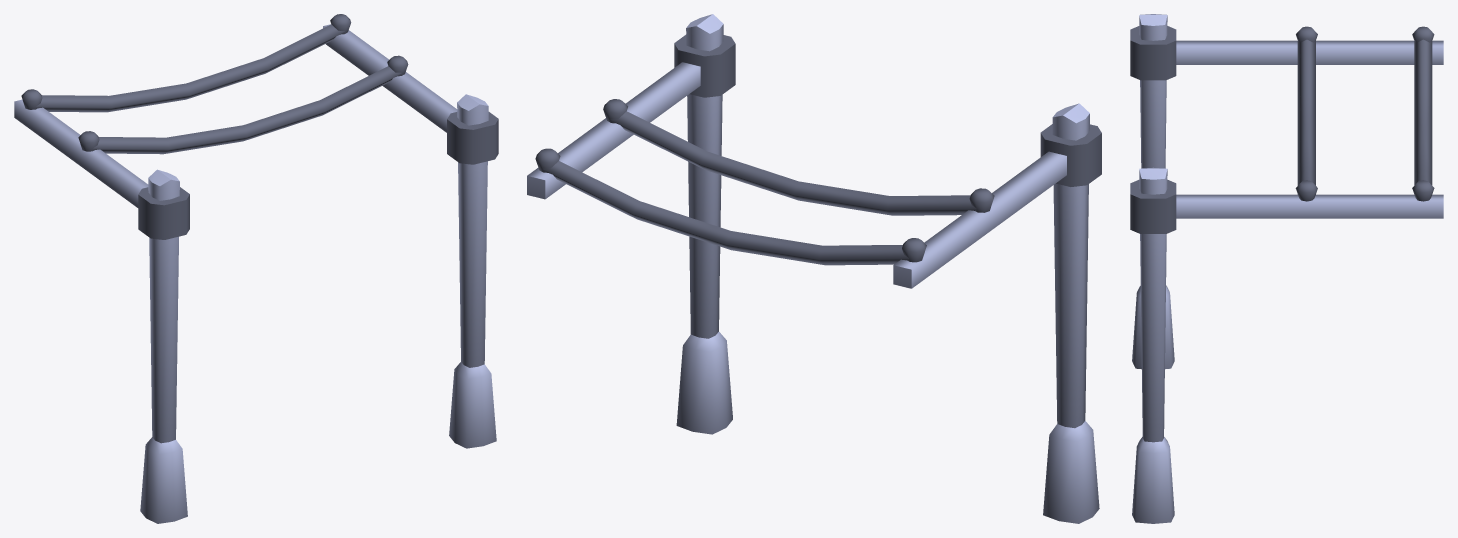
File: electricity-side.glb
3 renders of one model, left to right at view 1: azimuth 30°, elevation 25°; view 2: azimuth 150°, elevation 25°; view 3: azimuth 270°, elevation 25°, orthographic. The views are drawn at different scales.
Visible parts, largest first — view 1: electricity-side; view 2: electricity-side; view 3: electricity-side.
Part boxes in pixels (x1,y1,x2,y2): electricity-side: (14, 14, 498, 523); electricity-side: (527, 14, 1101, 523); electricity-side: (1130, 14, 1443, 523).
Size of the model in its own units: 0.5634 by 0.525 by 0.4306.
1 material, 1 textured.
